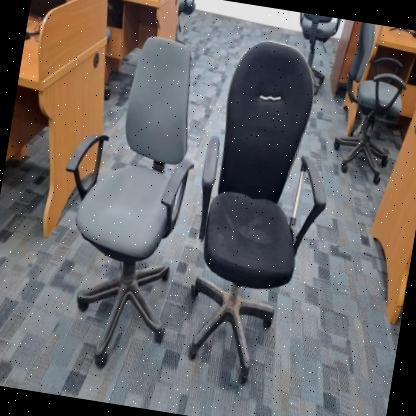chair: (163, 29, 356, 396), (31, 20, 218, 384)
